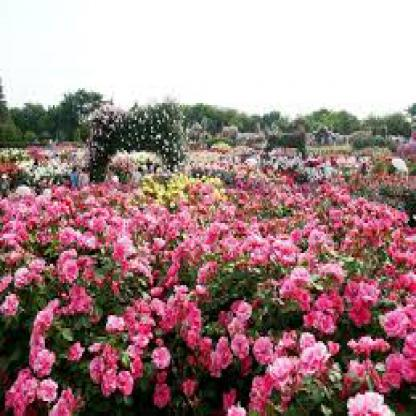Rose-Mawar: (1, 166, 416, 415)
